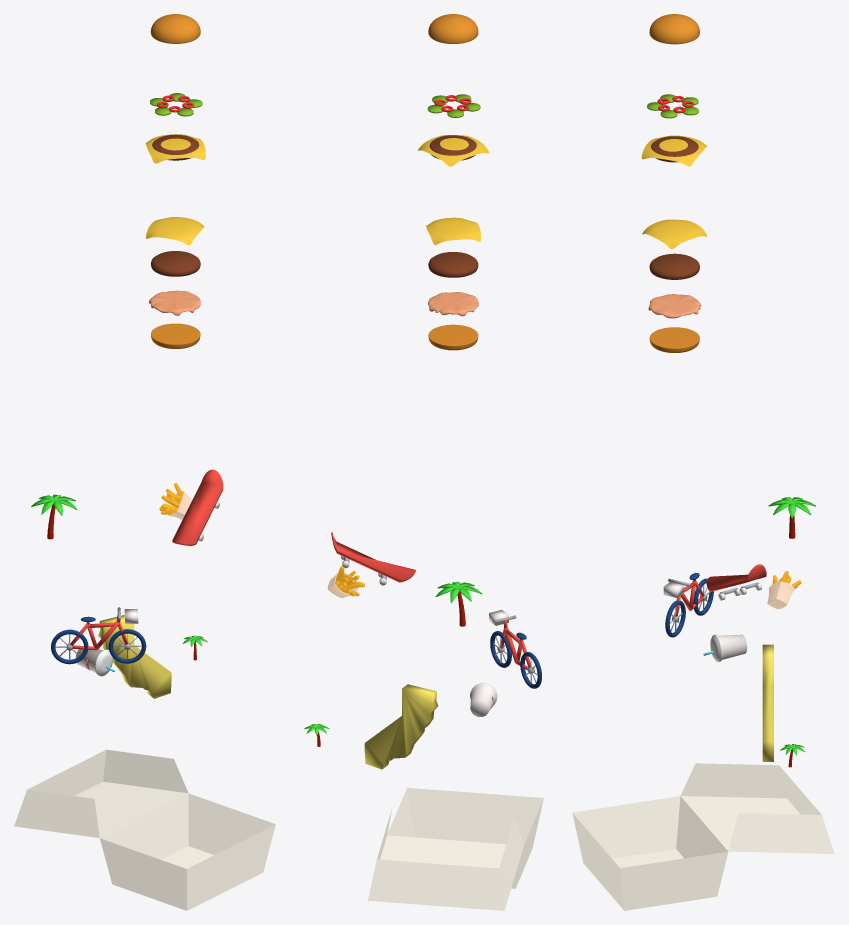
File: scroll_model.glb
3 renders of one model, left to right at view 1: azimuth 30°, elevation 25°; view 2: azimuth 150°, elevation 25°; view 3: azimuth 270°, elevation 25°, orthographic.
Parts seen in each view (by area): view 1: Box_Bottom_Part, Box_Upper_Part, MB_California_State, MB_Skateboard_Deck, Burger_Bun_Top, Burger_Cheese, Burger_Patty, Burger_Bun_Bottom, MB_Bike_Tyres, Burger_Mayonnaise_Bottom, MB_Burger_Cheese_2, MB_Bike_Frame (+1 smaller); view 2: Box_Upper_Part, Box_Bottom_Part, MB_California_State, Burger_Bun_Top, Burger_Cheese, MB_Skateboard_Deck, Burger_Bun_Bottom, Burger_Patty, Burger_Mayonnaise_Bottom, MB_Burger_Cheese_2, MB_Bike_Tyres, MB_Soda_Cup (+5 smaller); view 3: Box_Bottom_Part, Box_Upper_Part, MB_California_State, Burger_Bun_Top, Burger_Cheese, Burger_Patty, Burger_Bun_Bottom, Burger_Mayonnaise_Bottom, MB_Burger_Cheese_2, MB_Skateboard_Deck, MB_Bike_Tyres, MB_Burger_Patty_2 (+2 smaller).
Part boxes in pixels (left/top/right/bottom): Box_Bottom_Part: left=99, top=793, right=275, bottom=910; Box_Upper_Part: left=14, top=749, right=188, bottom=837; MB_California_State: left=98, top=615, right=171, bottom=698; MB_Skateboard_Deck: left=172, top=469, right=223, bottom=545; Burger_Bun_Top: left=150, top=14, right=200, bottom=43; Burger_Cheese: left=146, top=217, right=204, bottom=245; Burger_Patty: left=151, top=251, right=200, bottom=276; Burger_Bun_Bottom: left=151, top=323, right=200, bottom=348; MB_Bike_Tyres: left=51, top=629, right=146, bottom=664; Burger_Mayonnaise_Bottom: left=149, top=290, right=200, bottom=315; MB_Burger_Cheese_2: left=145, top=134, right=205, bottom=163; MB_Bike_Frame: left=70, top=613, right=128, bottom=650; Box_Upper_Part: left=368, top=809, right=523, bottom=910; Box_Bottom_Part: left=387, top=787, right=543, bottom=888; MB_California_State: left=364, top=684, right=438, bottom=769; Burger_Bun_Top: left=428, top=14, right=478, bottom=43; Burger_Cheese: left=426, top=217, right=480, bottom=244; MB_Skateboard_Deck: left=331, top=532, right=415, bottom=582; Burger_Bun_Bottom: left=428, top=324, right=478, bottom=350; Burger_Patty: left=428, top=252, right=478, bottom=277; Burger_Mayonnaise_Bottom: left=428, top=292, right=478, bottom=316; MB_Burger_Cheese_2: left=418, top=135, right=489, bottom=166; MB_Bike_Tyres: left=490, top=631, right=541, bottom=688; MB_Soda_Cup: left=470, top=685, right=495, bottom=716; Box_Bottom_Part: left=572, top=796, right=728, bottom=910; Box_Upper_Part: left=680, top=763, right=834, bottom=853; MB_California_State: left=762, top=644, right=773, bottom=761; Burger_Bun_Top: left=649, top=14, right=699, bottom=44; Burger_Cheese: left=642, top=219, right=707, bottom=248; Burger_Patty: left=649, top=253, right=699, bottom=279; Burger_Bun_Bottom: left=649, top=327, right=699, bottom=352; Burger_Mayonnaise_Bottom: left=648, top=294, right=701, bottom=318; MB_Burger_Cheese_2: left=641, top=135, right=707, bottom=166; MB_Skateboard_Deck: left=706, top=564, right=766, bottom=591; MB_Bike_Tyres: left=665, top=578, right=713, bottom=637; MB_Burger_Patty_2: left=651, top=136, right=698, bottom=162.
Size of the model in its own units: 47.92 by 200 by 55.3.
